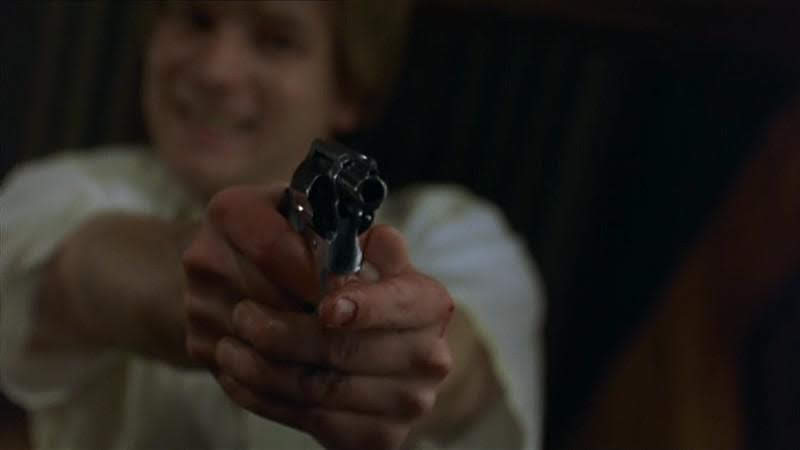gun: (248, 132, 431, 328)
